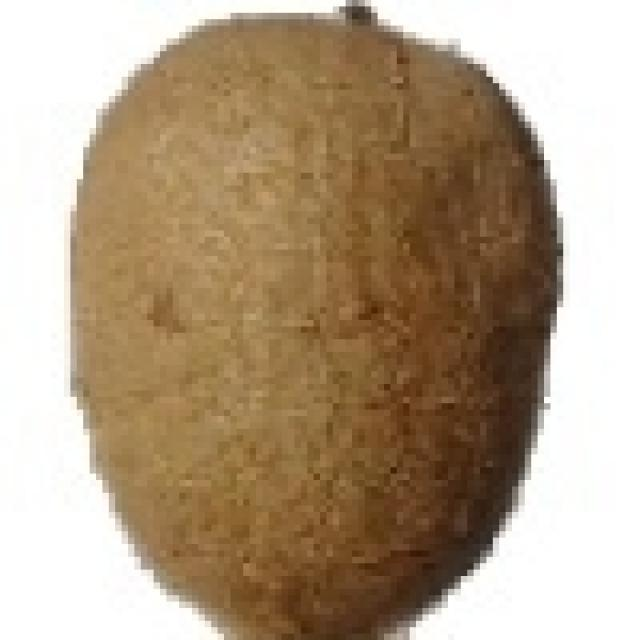kiwi: (64, 6, 544, 627)
